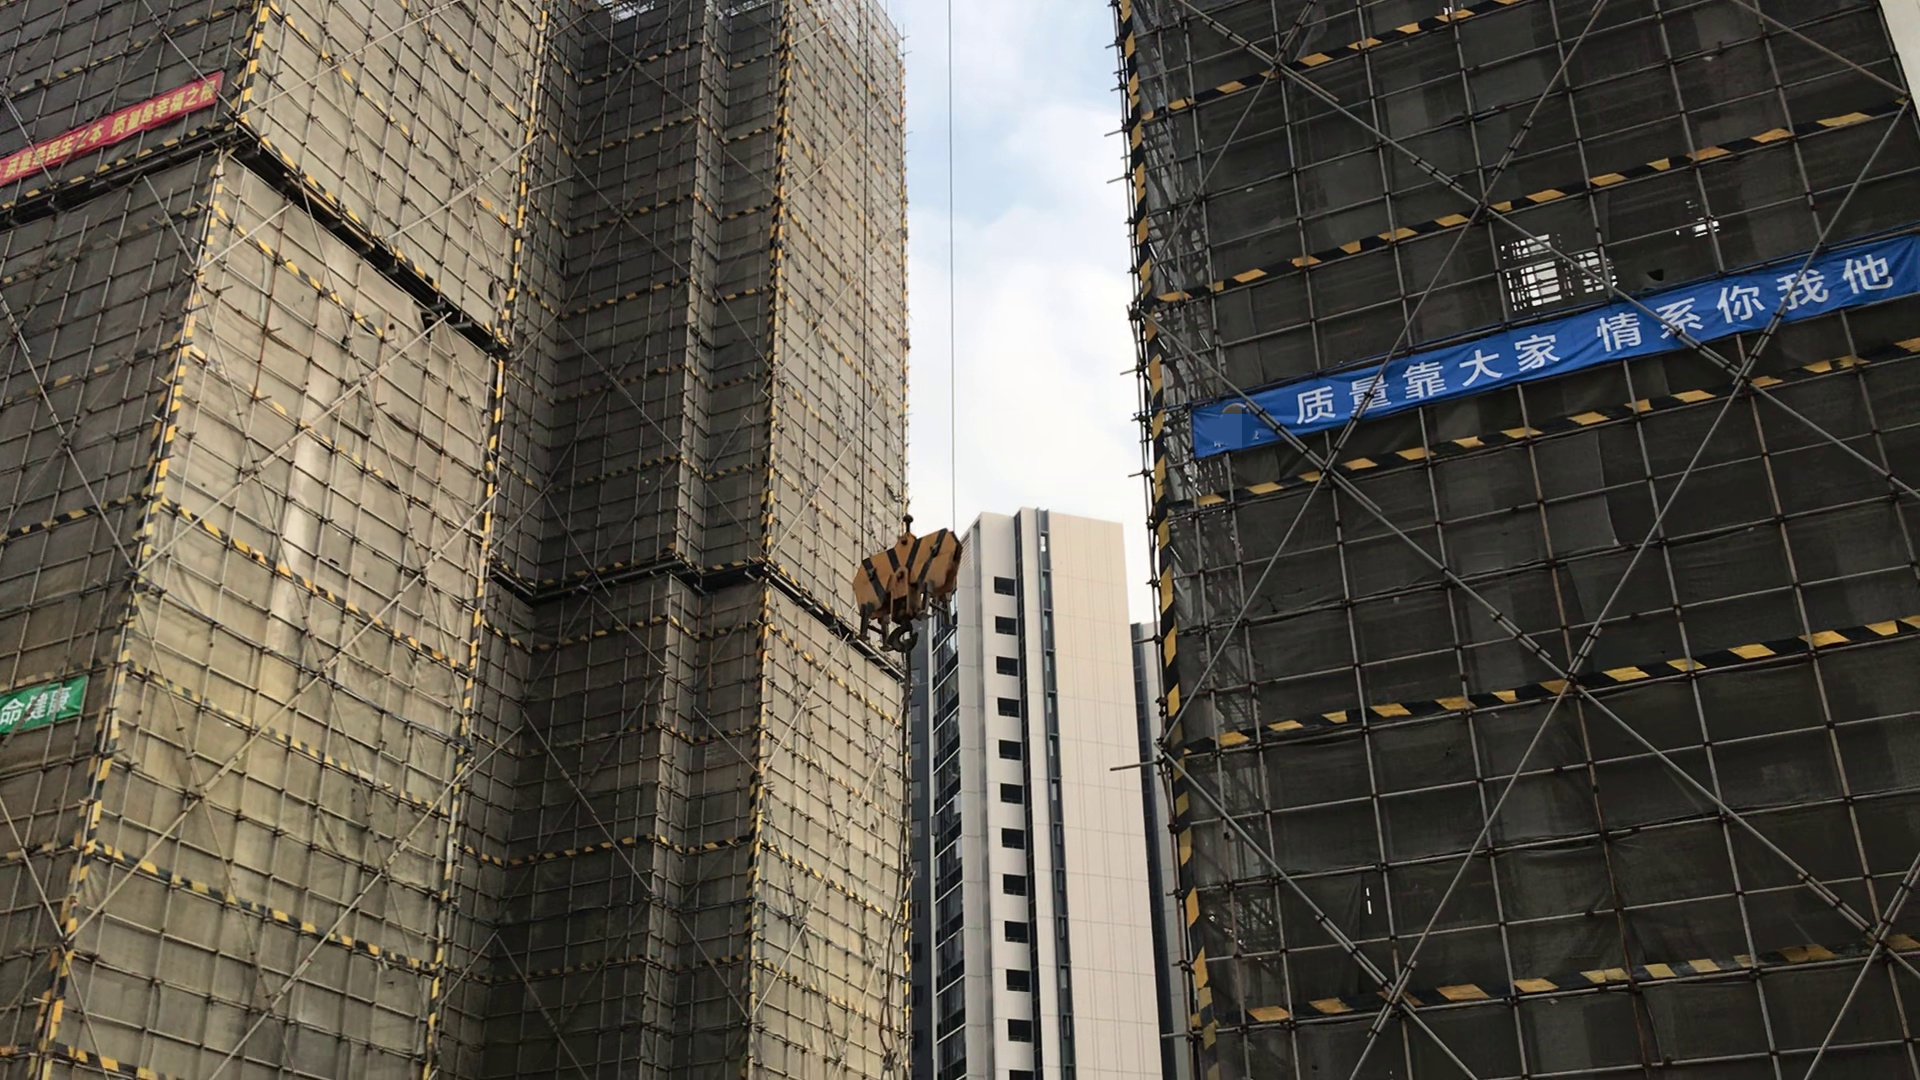fence: (1204, 241, 1903, 458), (3, 75, 225, 175), (4, 678, 98, 737)
hook: (851, 509, 969, 655)
